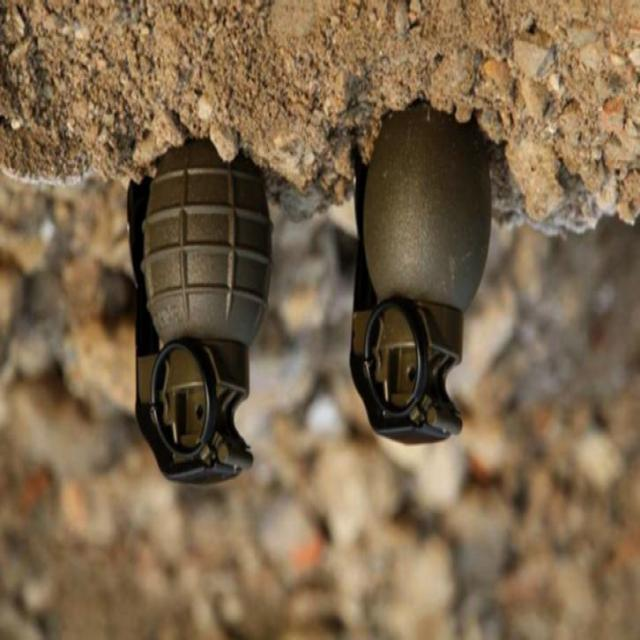grenade: (352, 98, 498, 444), (134, 137, 275, 485)
